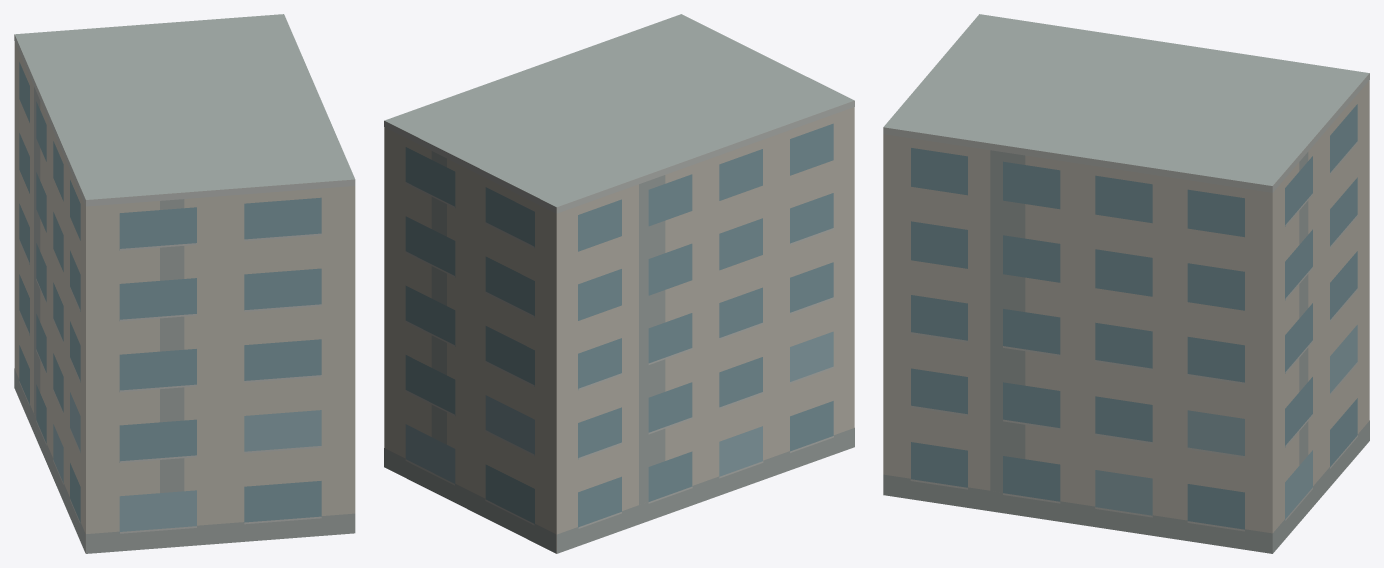
Rendered from survey-upis-32966894.glb.
The picture shows the model from 3 angles, left to right: view 1: azimuth 30°, elevation 25°; view 2: azimuth 150°, elevation 25°; view 3: azimuth 270°, elevation 25°; orthographic projection. The views are drawn at different scales.
Visible parts, largest first — view 1: survey-upis-32966894.tmp; view 2: survey-upis-32966894.tmp; view 3: survey-upis-32966894.tmp.
Boxes of the visible parts, x1,y1,x2,y2 form: survey-upis-32966894.tmp: [14, 14, 355, 553]; survey-upis-32966894.tmp: [384, 14, 854, 553]; survey-upis-32966894.tmp: [883, 14, 1369, 553].
Bounding box in the file's own units: 13.26 × 13.2 × 15.83.
